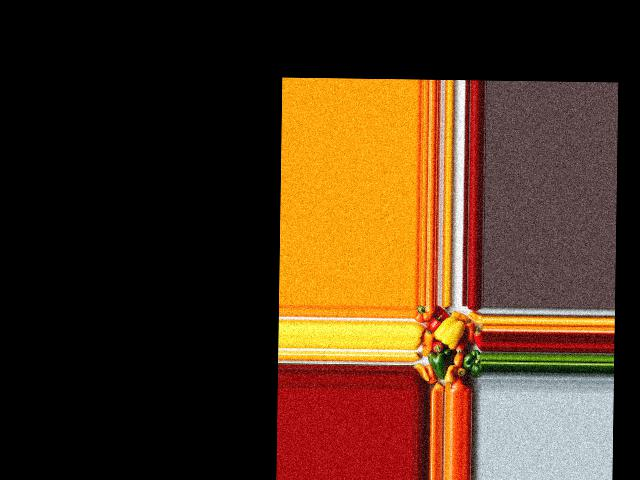bell_pepper: (471, 326, 483, 348)
